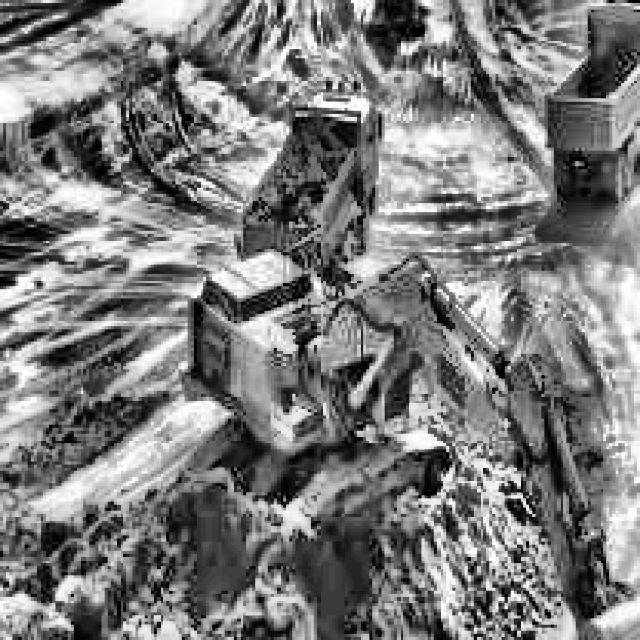dump_truck: (235, 73, 383, 264), (541, 0, 640, 206)
excavator: (175, 246, 640, 640)
